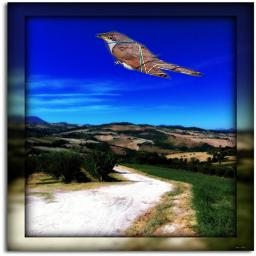Cuckoo: (95, 29, 205, 82)
